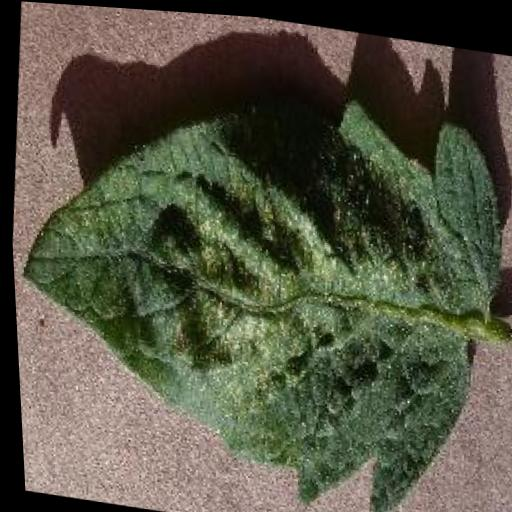Spider Mites: (2, 51, 512, 512)
